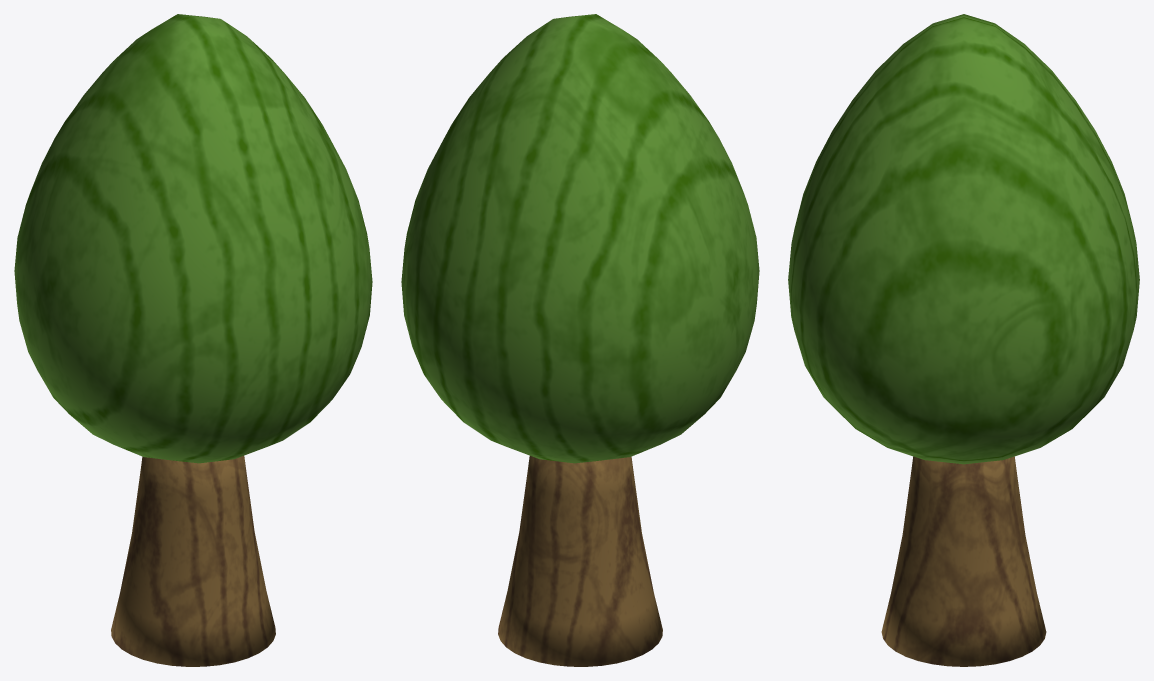
File: WoodTree4.glb
3 renders of one model, left to right at view 1: azimuth 30°, elevation 25°; view 2: azimuth 150°, elevation 25°; view 3: azimuth 270°, elevation 25°, orthographic.
Visible parts, largest first — view 1: WoodTree4, WoodTree4_bark; view 2: WoodTree4, WoodTree4_bark; view 3: WoodTree4, WoodTree4_bark.
Part boxes in pixels (x1,y1,x2,y2): WoodTree4: (14,14,372,463); WoodTree4_bark: (111,456,275,666); WoodTree4: (401,14,759,463); WoodTree4_bark: (498,456,662,666); WoodTree4: (788,14,1139,464); WoodTree4_bark: (881,456,1046,666).
Size of the model in its own units: 3.62 by 6.97 by 3.62.
Materials: 2 (2 with a texture image).
